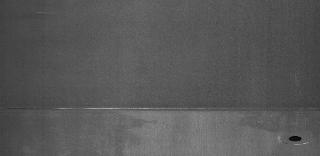punching hole: (286, 134, 304, 144)
welding line: (2, 104, 318, 114)
